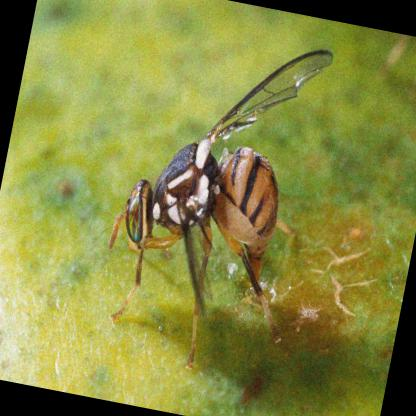fruit fly: (107, 48, 331, 366)
